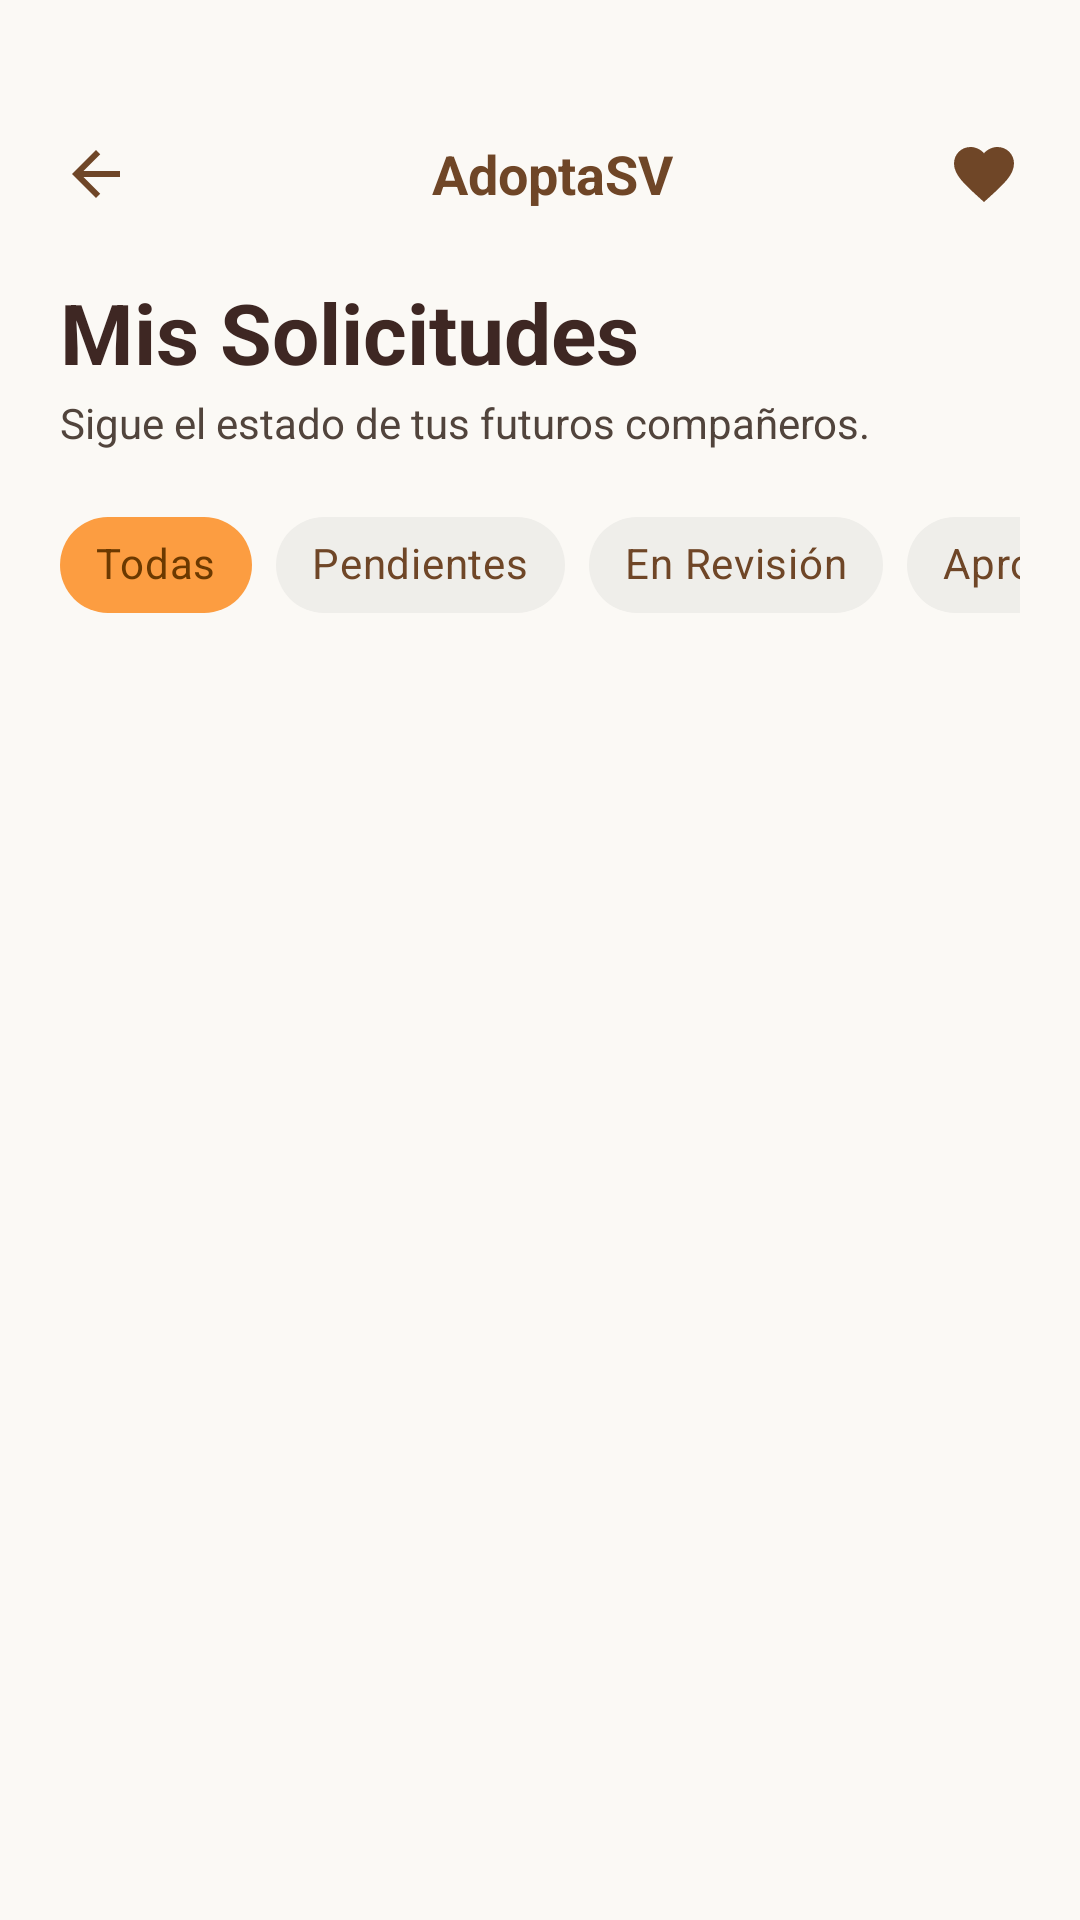

Screen size 1080px×1920px. Icon name, then its box in pixels as (x1, y1, x2, y2):
Favoritos: (954, 147, 1014, 202)
Volver: (72, 150, 120, 198)
